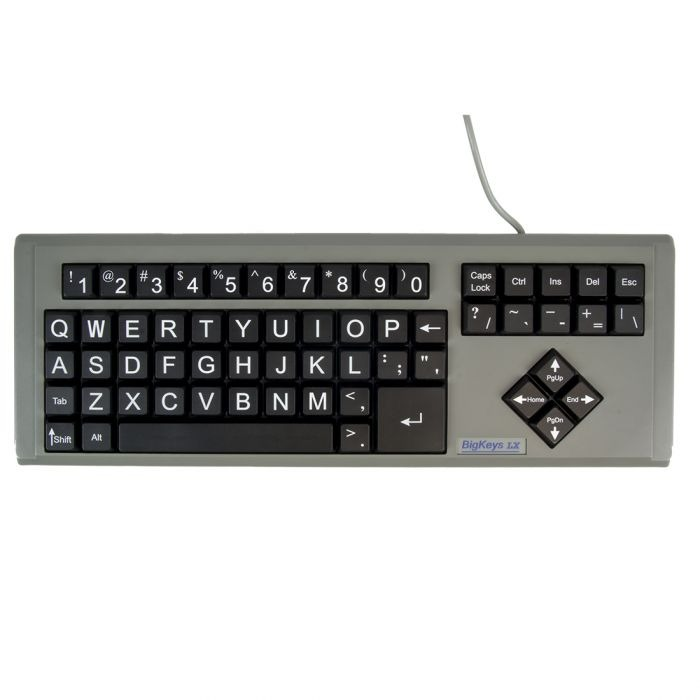keyboard: (24, 242, 671, 464)
